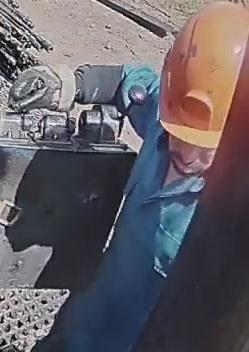gloves: (7, 62, 87, 112)
helmet: (157, 1, 248, 149)
vest: (68, 64, 214, 352)
